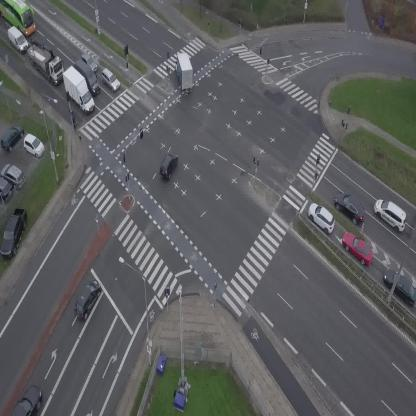bicycle: (71, 114, 79, 131)
car: (368, 193, 413, 235), (68, 276, 106, 322), (329, 187, 371, 228), (337, 227, 379, 267), (8, 382, 50, 416), (303, 199, 340, 236), (156, 148, 183, 182), (96, 66, 124, 93), (78, 50, 100, 72)
lorry: (17, 33, 72, 88), (55, 64, 104, 115), (70, 56, 105, 95), (170, 50, 199, 94), (3, 23, 30, 54)
